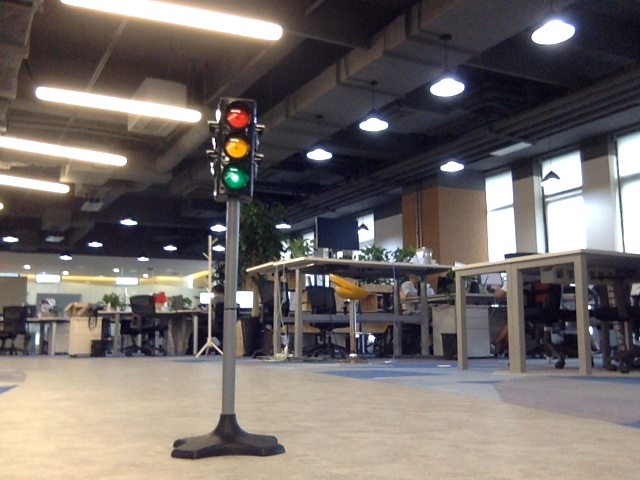green: (218, 107, 251, 195)
